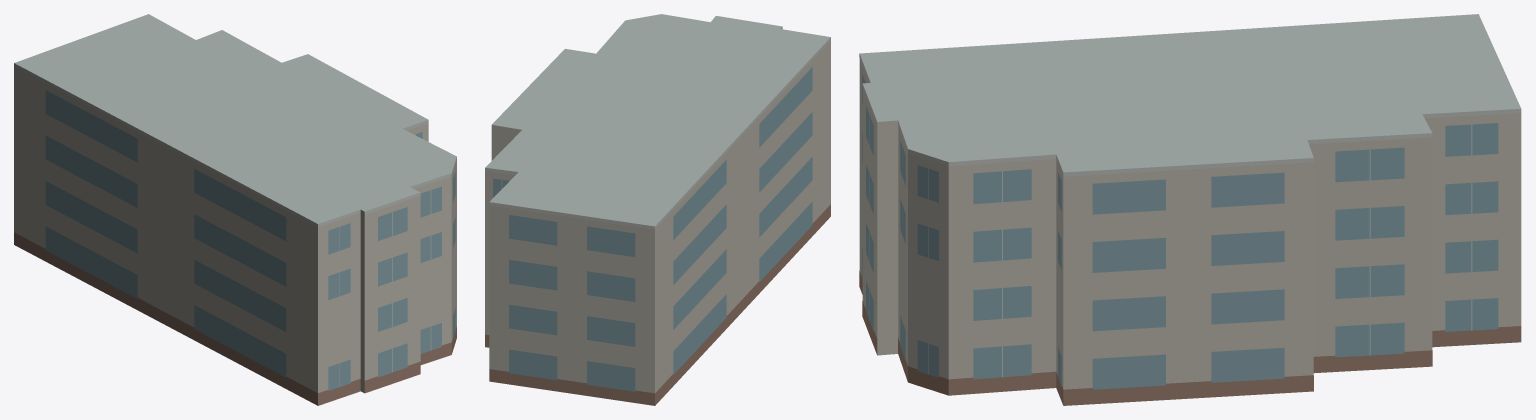
Rendered from survey-upis-32575708.glb.
The picture shows the model from 3 angles, left to right: view 1: azimuth 30°, elevation 25°; view 2: azimuth 150°, elevation 25°; view 3: azimuth 270°, elevation 25°; orthographic projection. The views are drawn at different scales.
Parts seen in each view (by area): view 1: survey-upis-32575708.tmp; view 2: survey-upis-32575708.tmp; view 3: survey-upis-32575708.tmp.
Boxes of the visible parts, x1,y1,x2,y2 form: survey-upis-32575708.tmp: (14, 14, 456, 405); survey-upis-32575708.tmp: (485, 14, 830, 405); survey-upis-32575708.tmp: (859, 14, 1521, 405).
Bounding box in the file's own units: 19.44 × 13.35 × 34.31.
